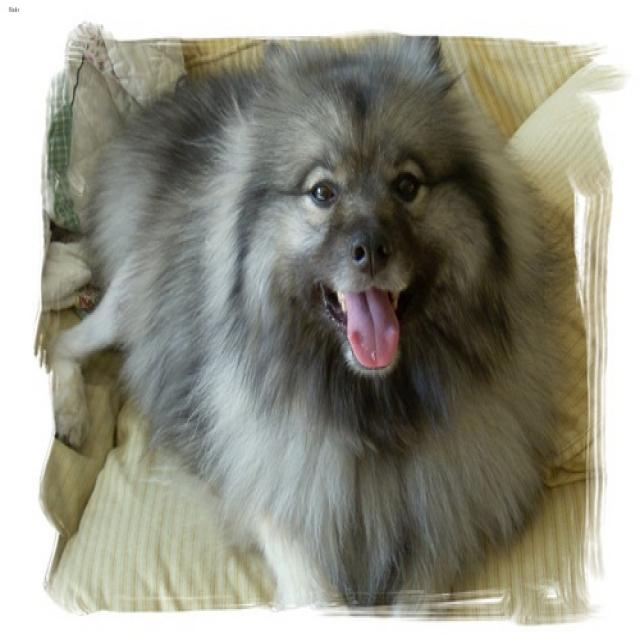dog-keeshond: (35, 15, 572, 626)
